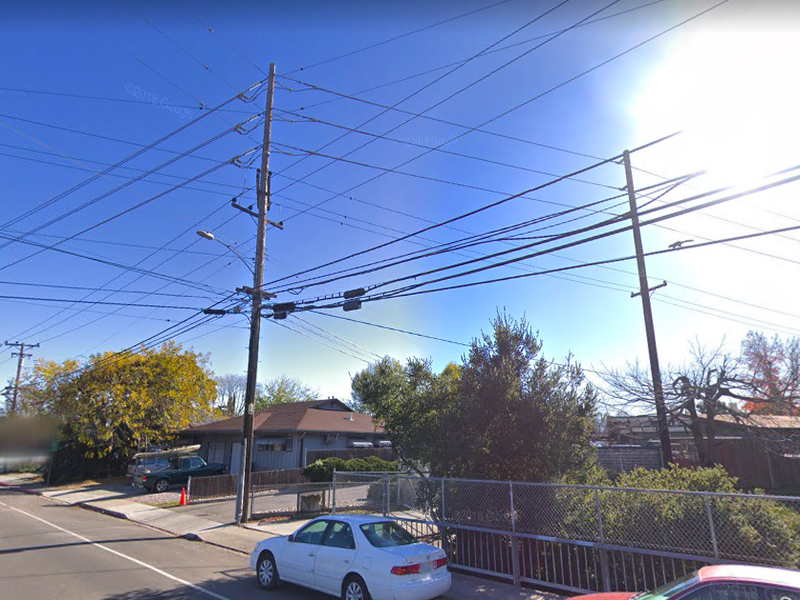utility_pole: (225, 55, 303, 236), (601, 141, 656, 229)
